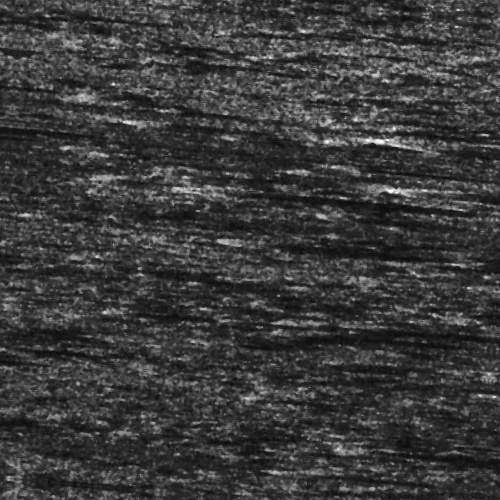object: (342, 119, 457, 136), (342, 169, 467, 180), (325, 432, 440, 443), (157, 185, 250, 198), (412, 237, 495, 250), (201, 236, 294, 245), (103, 127, 186, 136), (266, 313, 359, 320), (266, 321, 359, 328), (297, 154, 350, 161), (270, 463, 343, 468), (308, 204, 349, 209), (487, 365, 500, 376), (492, 105, 500, 110)
shadow: (204, 185, 439, 198), (400, 119, 500, 136), (248, 236, 405, 245), (383, 432, 500, 443), (313, 313, 476, 320), (313, 321, 476, 328), (405, 169, 500, 180), (324, 154, 449, 161), (307, 463, 464, 468), (145, 127, 218, 136), (329, 204, 453, 209), (453, 237, 500, 250), (0, 147, 36, 156)
